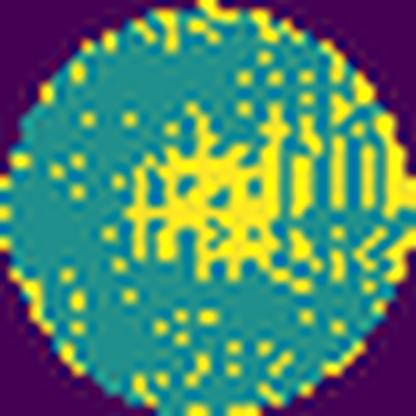Center: (130, 102, 283, 283)
